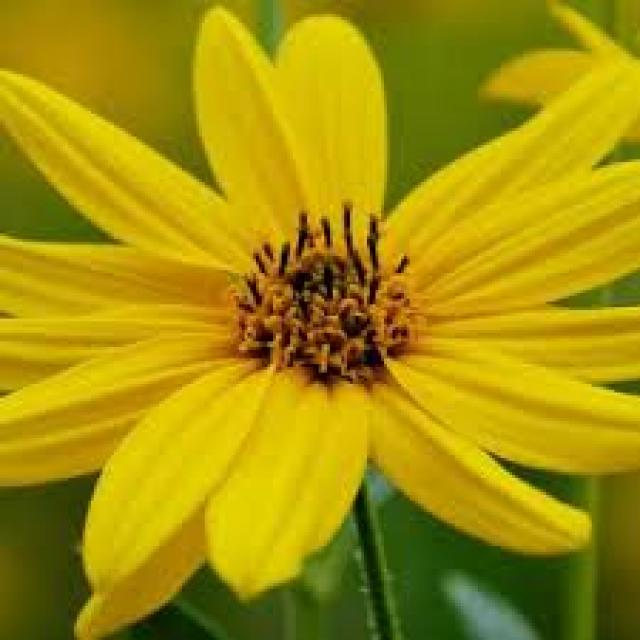sunflower: (3, 0, 640, 640), (460, 1, 640, 164)
